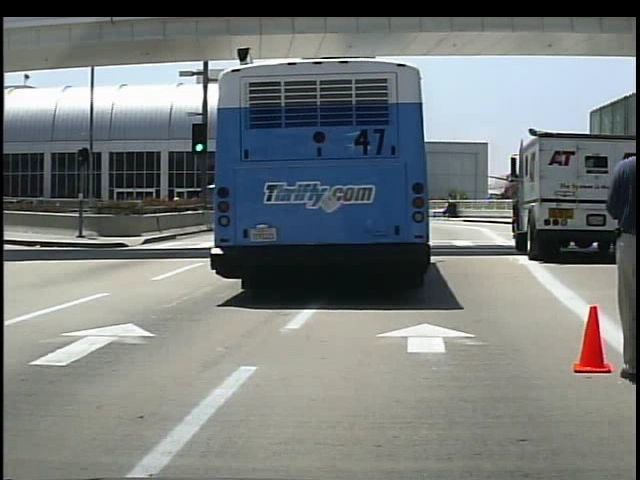person: (631, 115, 636, 386)
